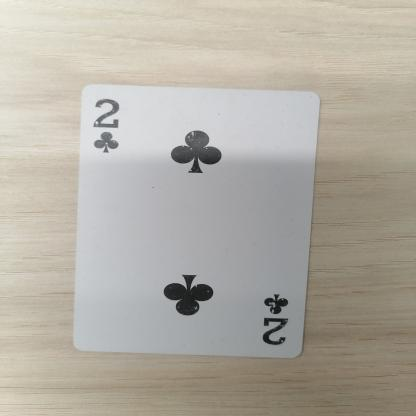2C: (79, 90, 149, 160), (237, 294, 307, 352)
